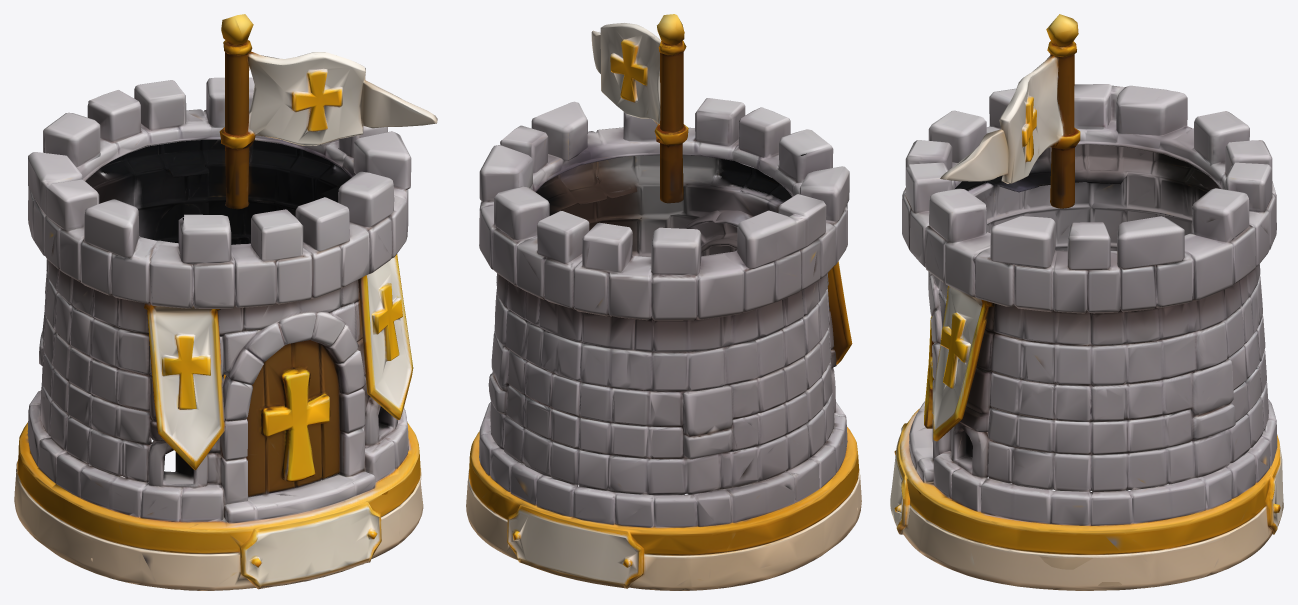
File: child-crusader-r-mobile50.glb
The picture shows the model from 3 angles, left to right: view 1: azimuth 30°, elevation 25°; view 2: azimuth 150°, elevation 25°; view 3: azimuth 270°, elevation 25°; orthographic projection. The views are drawn at different scales.
Visible parts, largest first — view 1: node_0; view 2: node_0; view 3: node_0.
Boxes of the visible parts, x1=… form: node_0: x1=14, y1=14, x2=437, y2=590; node_0: x1=466, y1=14, x2=861, y2=590; node_0: x1=890, y1=14, x2=1283, y2=590.
Size of the model in its own units: 0.6985 by 0.9636 by 0.6948.
1 material, 1 textured.
